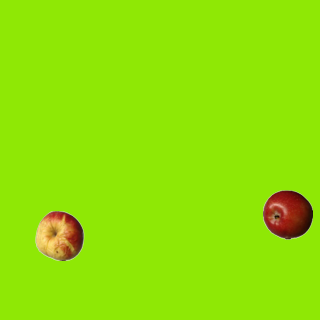Apple Braeburn: (262, 189, 312, 239)
Apple Red Yellow 1: (34, 210, 84, 260)
